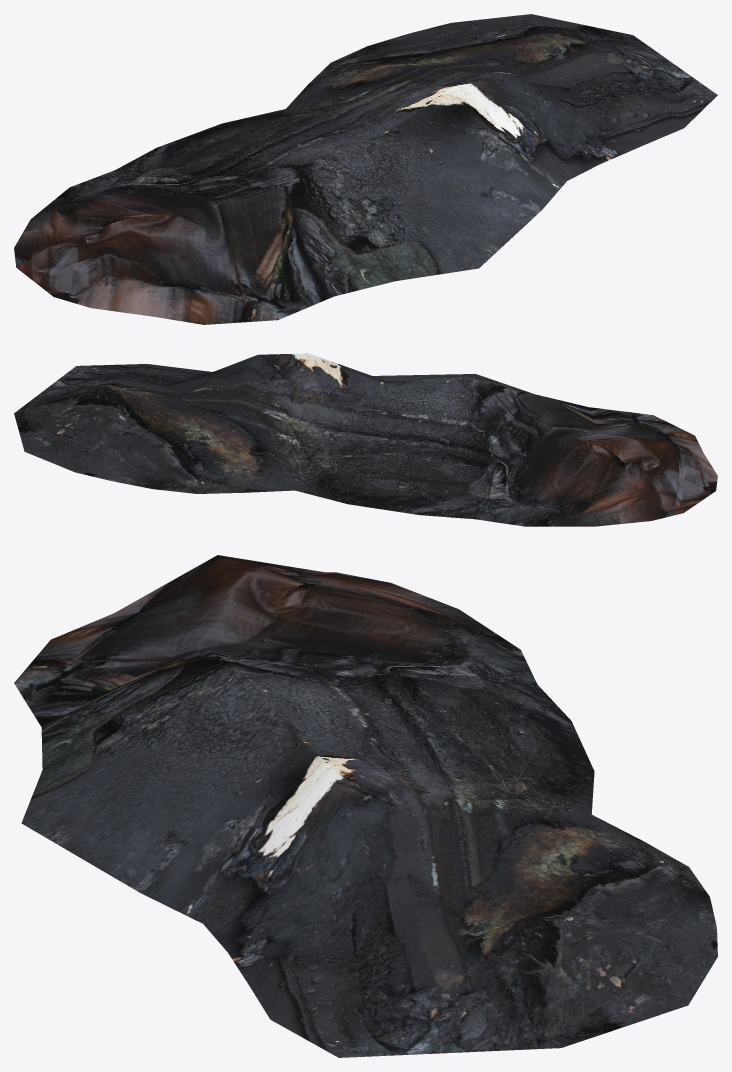
The model's file is rubbish1.obj.
3 renders of one model, top to bottom at view 1: azimuth 30°, elevation 25°; view 2: azimuth 150°, elevation 25°; view 3: azimuth 270°, elevation 25°, orthographic. The views are drawn at different scales.
Visible parts, largest first — view 1: def_surf_mat; view 2: def_surf_mat; view 3: def_surf_mat.
Boxes of the visible parts, x1,y1,x2,y2 form: def_surf_mat: [14, 14, 717, 324]; def_surf_mat: [14, 353, 717, 526]; def_surf_mat: [14, 555, 717, 1057].
Size of the model in its own units: 68.06 by 7.58 by 41.68.
Materials: 1 (1 with a texture image).
